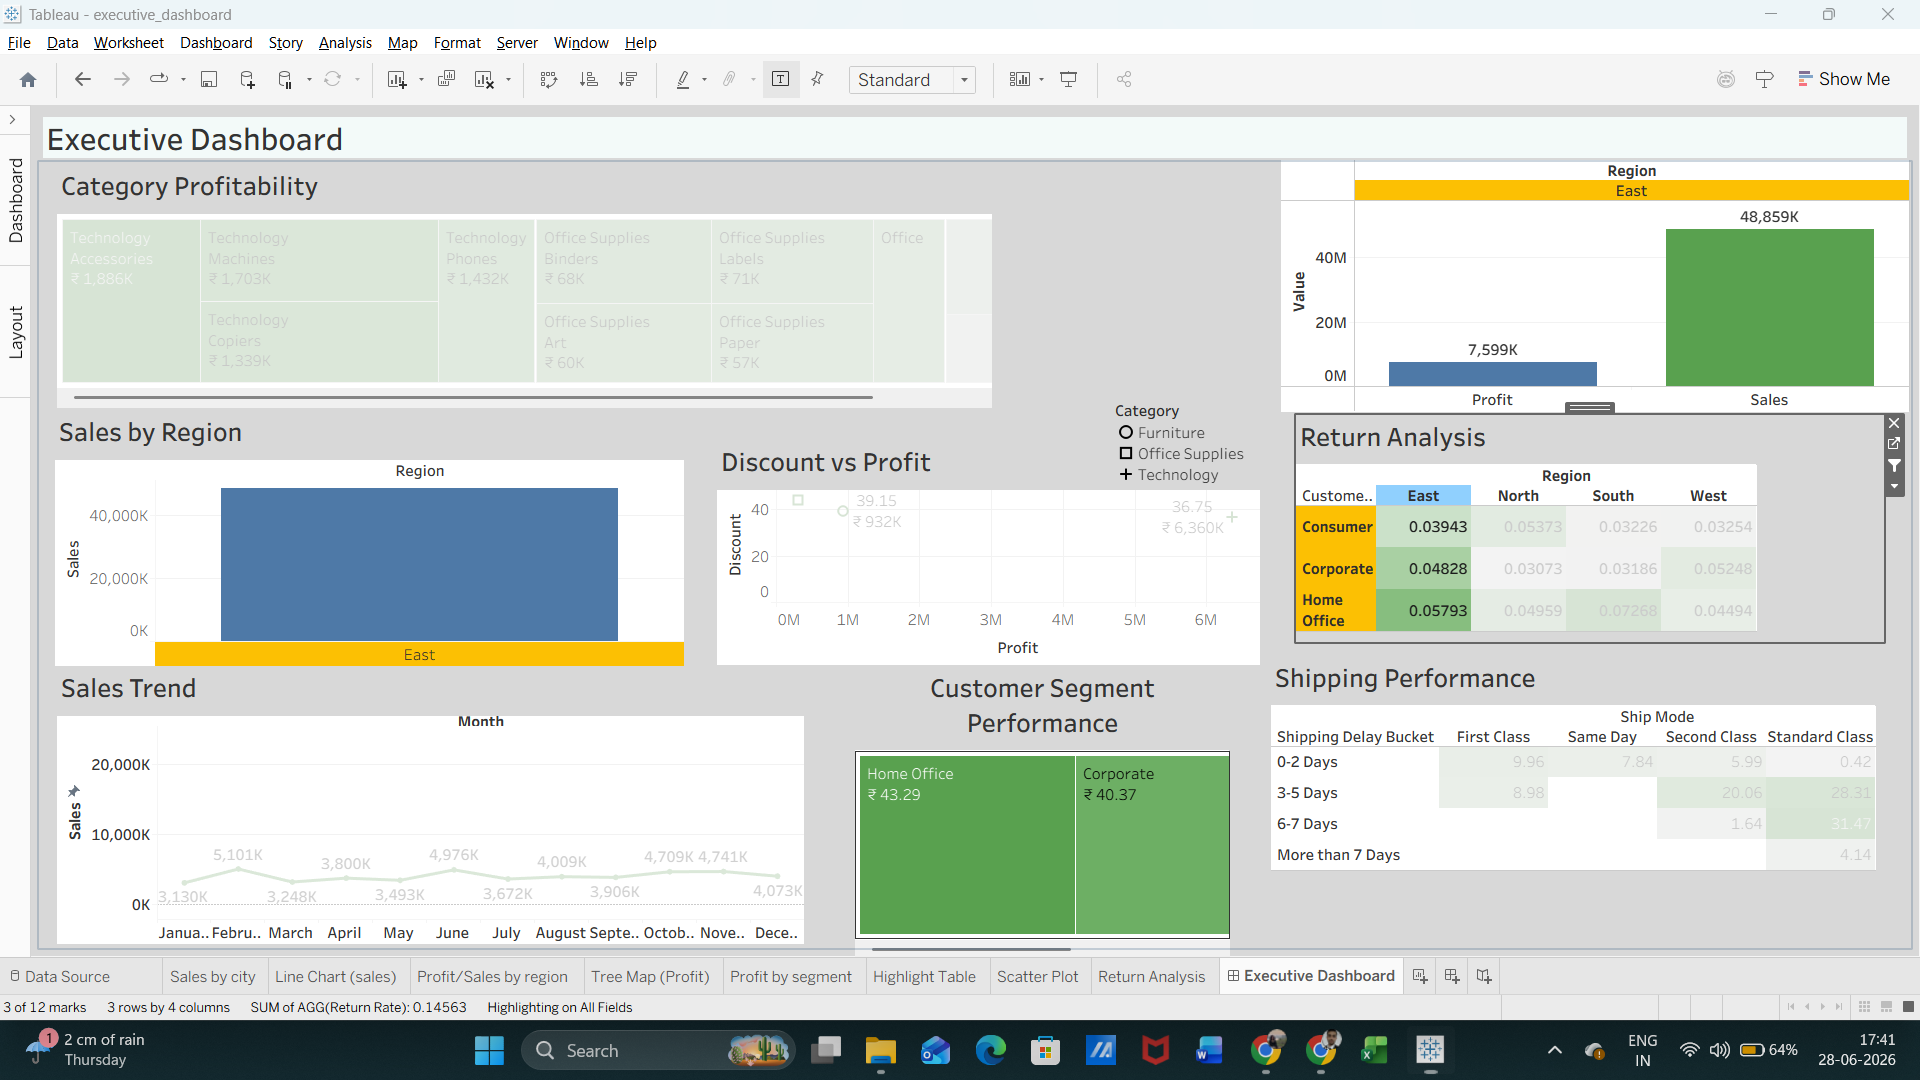

Layout of this report page (visuals, bound fields, positions):
{"tool":"tableau","page":{"name":"Executive Dashboard","canvas":[1000,1000],"units":"permille","ordinal":0},"visuals":[{"type":"title","box":[4.2,9.4,991.5,57.6]},{"type":"worksheet","title":"Profit/Sales by region","mark":"Automatic","cols":["region"],"box":[662,64.6,333.1,296.1]},{"type":"worksheet","title":"Tree Map (Profit)","mark":"Automatic","box":[13.9,69.3,495.5,286.7]},{"type":"legend","title":"Scatter Plot","param":"[federated.0z5z3j31rj5l7211yzydh0zxtakk].[none:category:nk]","box":[573.9,346.7,85.1,99.9]},{"type":"worksheet","title":"Sales by city","mark":"Automatic","rows":["sales"],"cols":["region"],"box":[12.7,358.4,333.1,300.8]},{"type":"worksheet","title":"Return Analysis","mark":"Square","rows":["customer_segment"],"cols":["region"],"box":[669.9,364.3,311.4,266.8]},{"type":"worksheet","title":"Scatter Plot","mark":"Automatic","rows":["discount"],"cols":["profit"],"box":[363.3,393.7,287.9,264.4]},{"type":"worksheet","title":"Highlight Table","mark":"Square","rows":["Calculation_2171277562015750"],"cols":["ship_mode"],"box":[656.8,647.5,335.8,332.6]},{"type":"worksheet","title":"Line Chart (sales)","mark":"Line","rows":["sales"],"cols":["Month"],"box":[13.8,659.2,395.7,326.7]},{"type":"worksheet","title":"Profit by segment","mark":"Automatic","box":[436.3,659.2,198.6,345.5]}]}

Visuals, with their boxes on the dashboard's canvas, which has no fixed pixel size, in thousandths of its width and height (x1, y1, x2, y2). These are canvas units, not pixel positions in the 1920x1080 screenshot, which may show the page scaled, cropped or inside an application window:
title: 4/9/996/67
"Profit/Sales by region" worksheet: 662/65/995/361
"Tree Map (Profit)" worksheet: 14/69/509/356
"Scatter Plot" legend: 574/347/659/447
"Sales by city" worksheet: 13/358/346/659
"Return Analysis" worksheet (Square marks): 670/364/981/631
"Scatter Plot" worksheet: 363/394/651/658
"Highlight Table" worksheet (Square marks): 657/648/993/980
"Line Chart (sales)" worksheet (Line marks): 14/659/410/986
"Profit by segment" worksheet: 436/659/635/1005
